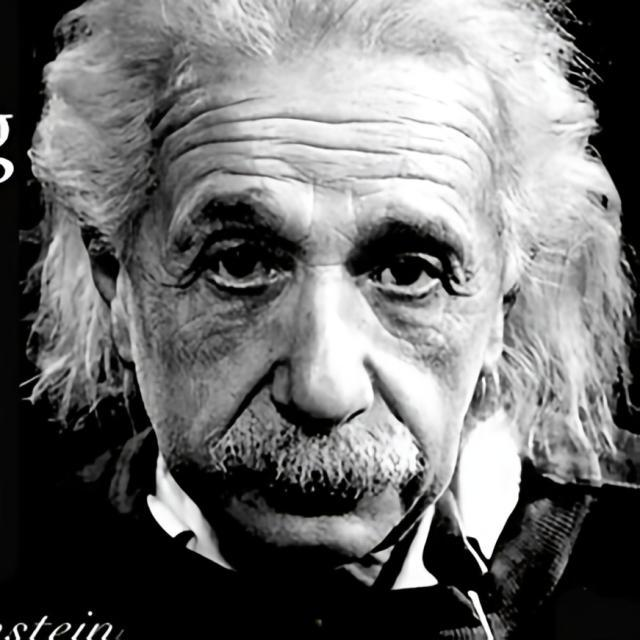surprise: (140, 61, 507, 567)
